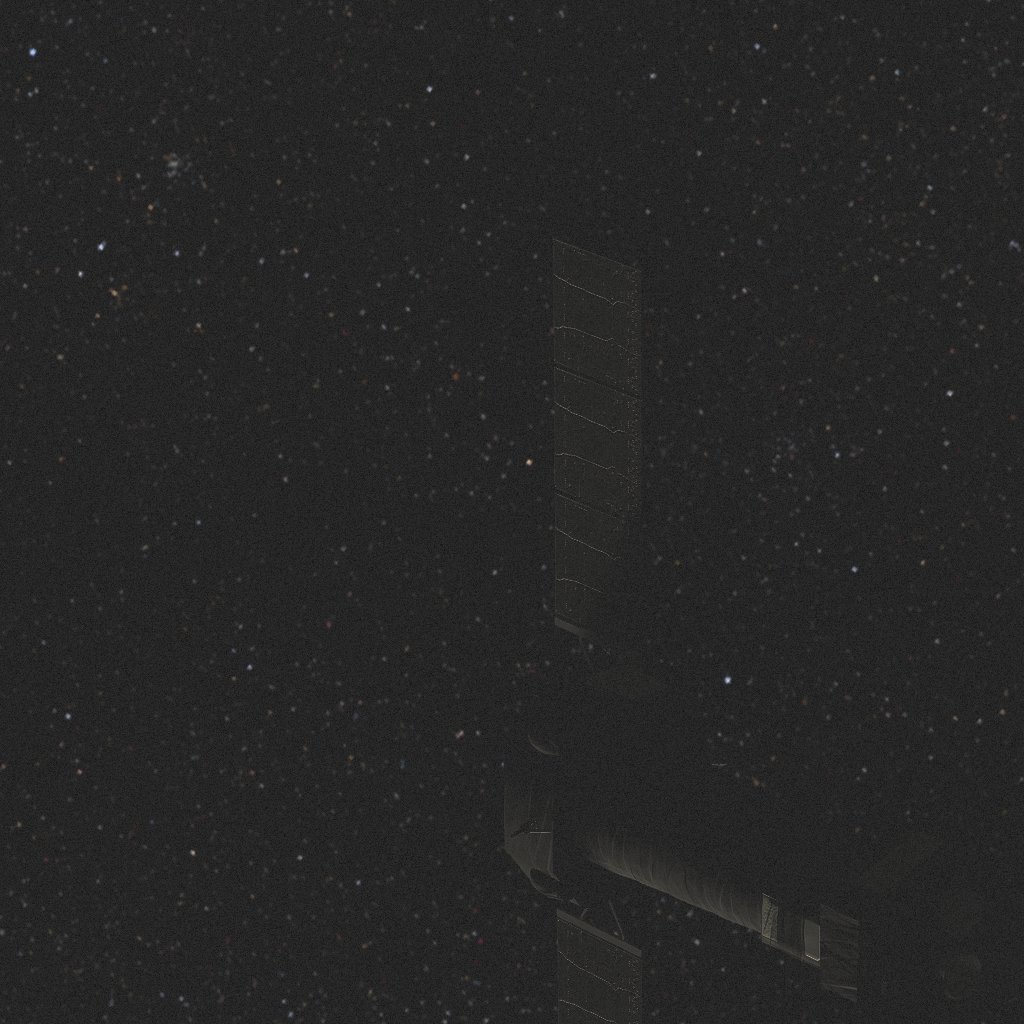xmm_newton: (504, 238, 1024, 1024)
